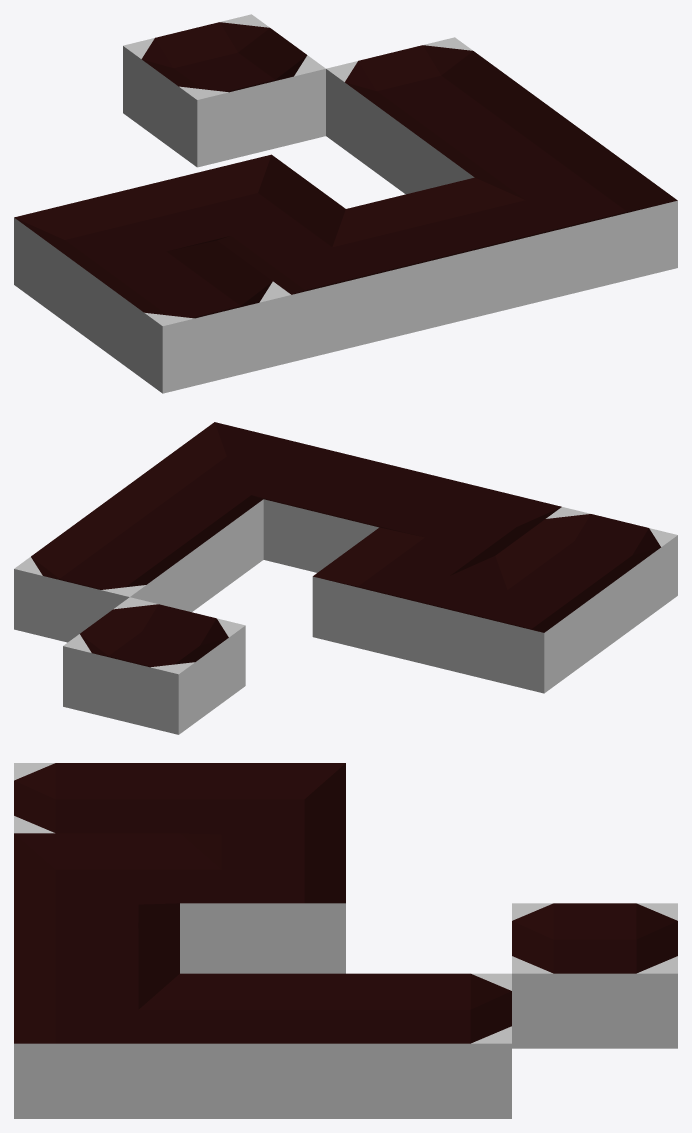
The model's file is 9f_path.obj.
3 views of the same model, one above another, from view 1: azimuth 30°, elevation 25°; view 2: azimuth 150°, elevation 25°; view 3: azimuth 270°, elevation 25° (orthographic). The views are drawn at different scales.
Visible parts, largest first — view 1: foil.hole.3.3_Cube.018, foil.ending.1.0_ending.035, foil.through.3.0_through.015, foil.corner.4.0_corner.094, foil.ending.4.2_ending.036, foil.corner.2.0_corner.092, foil.corner.1.1_corner.091, foil.through.4.1_through.016, foil.corner.2.1_corner.093; view 2: foil.hole.3.3_Cube.018, foil.corner.1.1_corner.091, foil.corner.2.1_corner.093, foil.ending.4.2_ending.036, foil.ending.1.0_ending.035, foil.through.3.0_through.015, foil.through.4.1_through.016, foil.corner.4.0_corner.094, foil.corner.2.0_corner.092; view 3: foil.hole.3.3_Cube.018, foil.through.4.1_through.016, foil.ending.4.2_ending.036, foil.corner.4.0_corner.094, foil.corner.2.1_corner.093, foil.corner.2.0_corner.092, foil.corner.1.1_corner.091, foil.ending.1.0_ending.035, foil.through.3.0_through.015.
Part boxes in pixels (x1,y1,x2,y2): foil.hole.3.3_Cube.018: (123,14,325,167); foil.ending.1.0_ending.035: (88,240,291,393); foil.through.3.0_through.015: (346,177,549,330); foil.corner.4.0_corner.094: (475,146,677,299); foil.ending.4.2_ending.036: (326,37,528,189); foil.corner.2.0_corner.092: (218,209,420,361); foil.corner.1.1_corner.091: (14,186,216,338); foil.through.4.1_through.016: (400,92,603,194); foil.corner.2.1_corner.093: (143,154,345,249); foil.hole.3.3_Cube.018: (63,597,245,734); foil.corner.1.1_corner.091: (428,556,610,693); foil.corner.2.1_corner.093: (312,527,494,664); foil.ending.4.2_ending.036: (14,520,196,642); foil.ending.1.0_ending.035: (495,507,677,644); foil.through.3.0_through.015: (263,450,445,572); foil.through.4.1_through.016: (81,471,263,608); foil.corner.4.0_corner.094: (148,422,329,507); foil.corner.2.0_corner.092: (380,478,561,563); foil.hole.3.3_Cube.018: (512,903,677,1048); foil.through.4.1_through.016: (180,973,345,1118); foil.ending.4.2_ending.036: (346,973,511,1118); foil.corner.4.0_corner.094: (14,973,179,1118); foil.corner.2.1_corner.093: (180,833,345,973); foil.corner.2.0_corner.092: (14,833,179,922); foil.corner.1.1_corner.091: (180,763,345,851); foil.ending.1.0_ending.035: (14,763,179,833); foil.through.3.0_through.015: (14,903,179,992).
Size of the model in its own units: 8 by 1 by 8.
